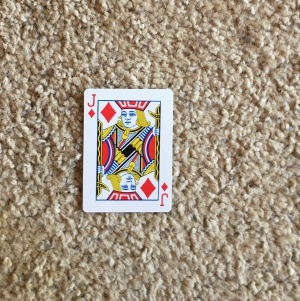card: (82, 88, 175, 213)
